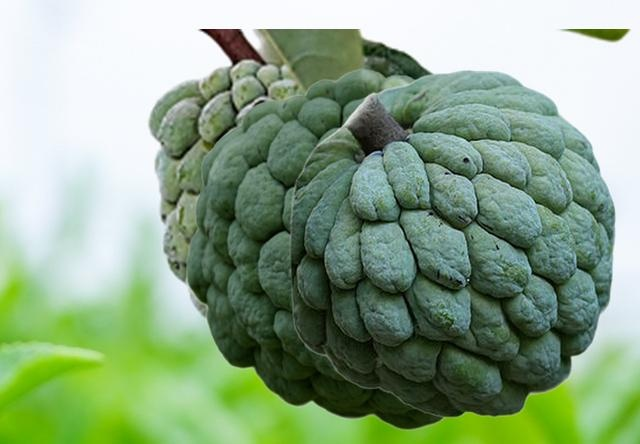atis: (146, 29, 629, 324), (289, 69, 615, 417), (185, 68, 466, 430)
